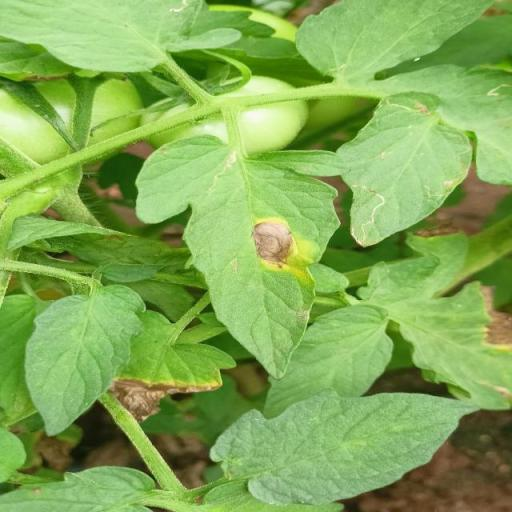Early Blight: (132, 132, 346, 382)
Healthy: (206, 388, 482, 506), (22, 280, 148, 437)
